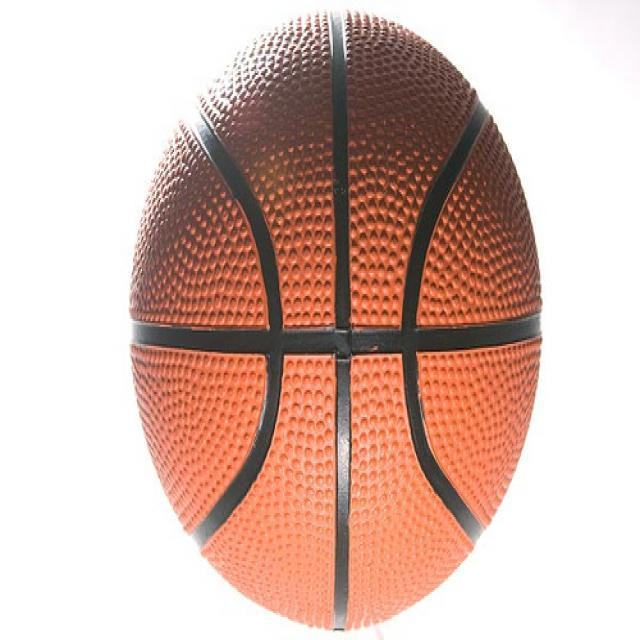basketball: (129, 11, 546, 633)
